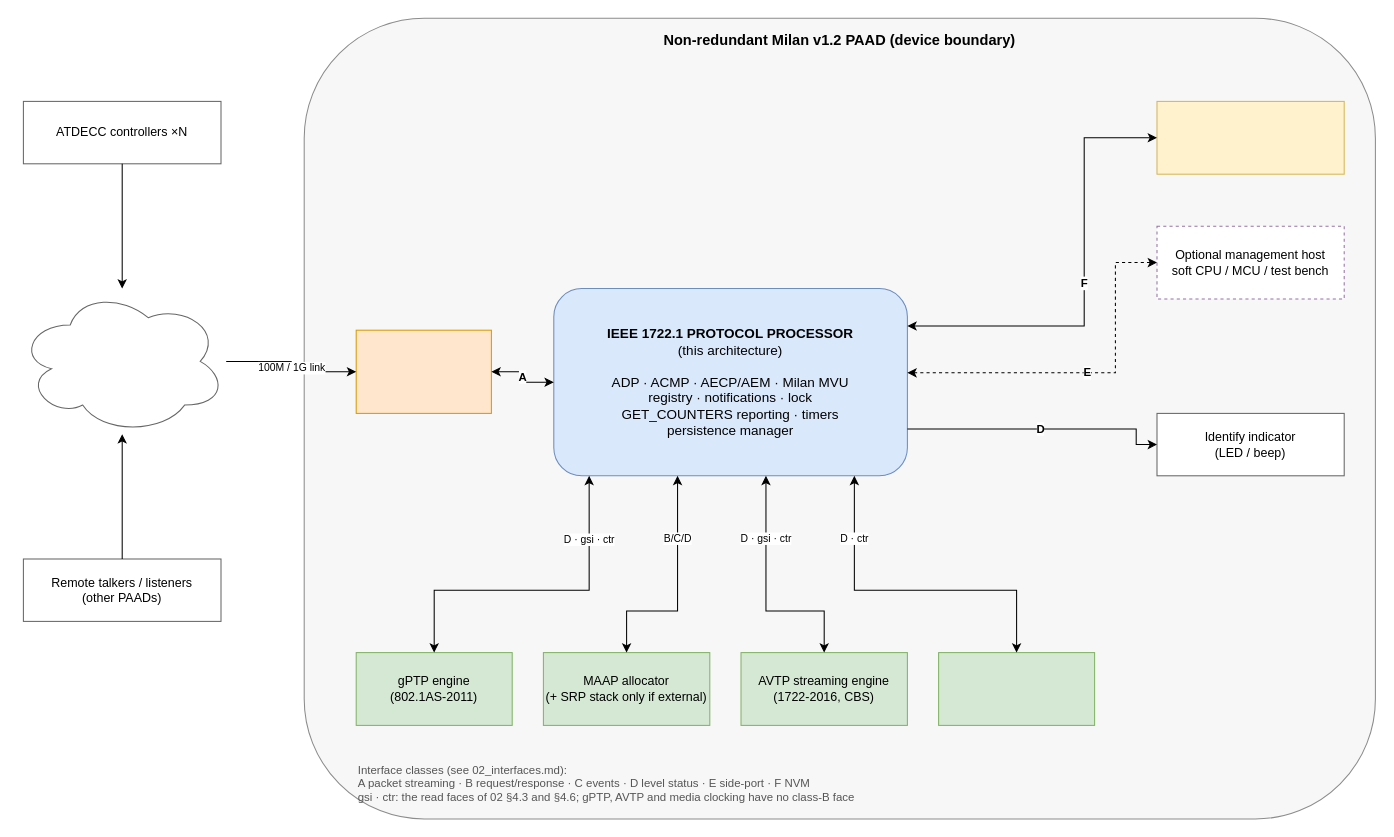
Image size: 1394x837. Some labels were removed from this diagram. Here are the shapes that lost their labels. From the top down, the centre of each, then its label:
At pixel 1250 137: "NVM device (flash / EEPROM / host FS)".
At pixel 121 361: "AVB network (802.1BA, SR class A)".
At pixel 423 371: "Ethernet MAC / PHY".
At pixel 1016 688: "Media-clock engine (CRF, domains)".
